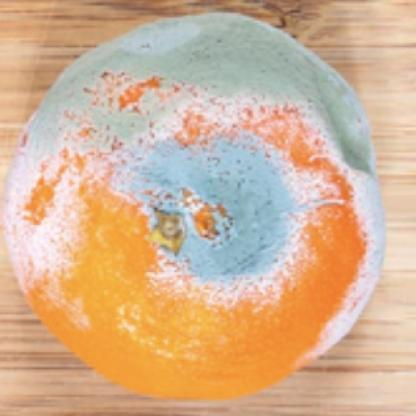rotten: (1, 11, 387, 404)
